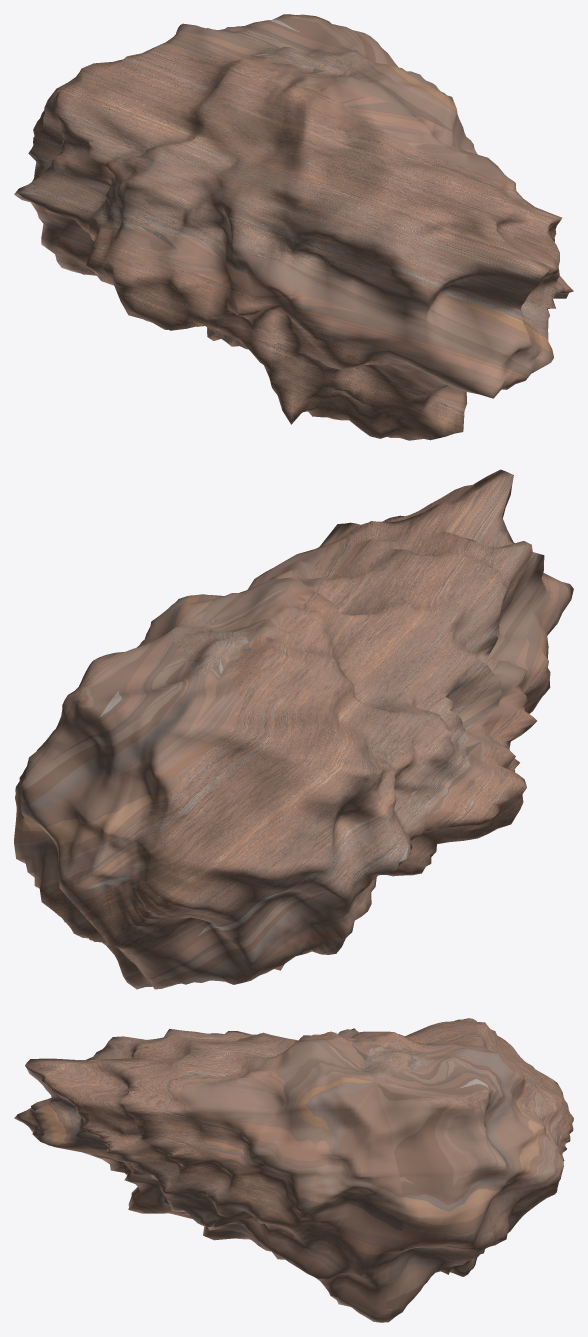
The model's file is Stone2.fbx.
3 renders of one model, top to bottom at view 1: azimuth 30°, elevation 25°; view 2: azimuth 150°, elevation 25°; view 3: azimuth 270°, elevation 25°, orthographic. The views are drawn at different scales.
Visible parts, largest first — view 1: Rock generator addon.001; view 2: Rock generator addon.001; view 3: Rock generator addon.001.
Part boxes in pixels (x1=…): Rock generator addon.001: x1=14, y1=14, x2=573, y2=440; Rock generator addon.001: x1=14, y1=469, x2=573, y2=989; Rock generator addon.001: x1=14, y1=1018, x2=573, y2=1322.
Bounding box in the file's own units: 426 × 360 × 732.
Materials: 1 (1 with a texture image).
